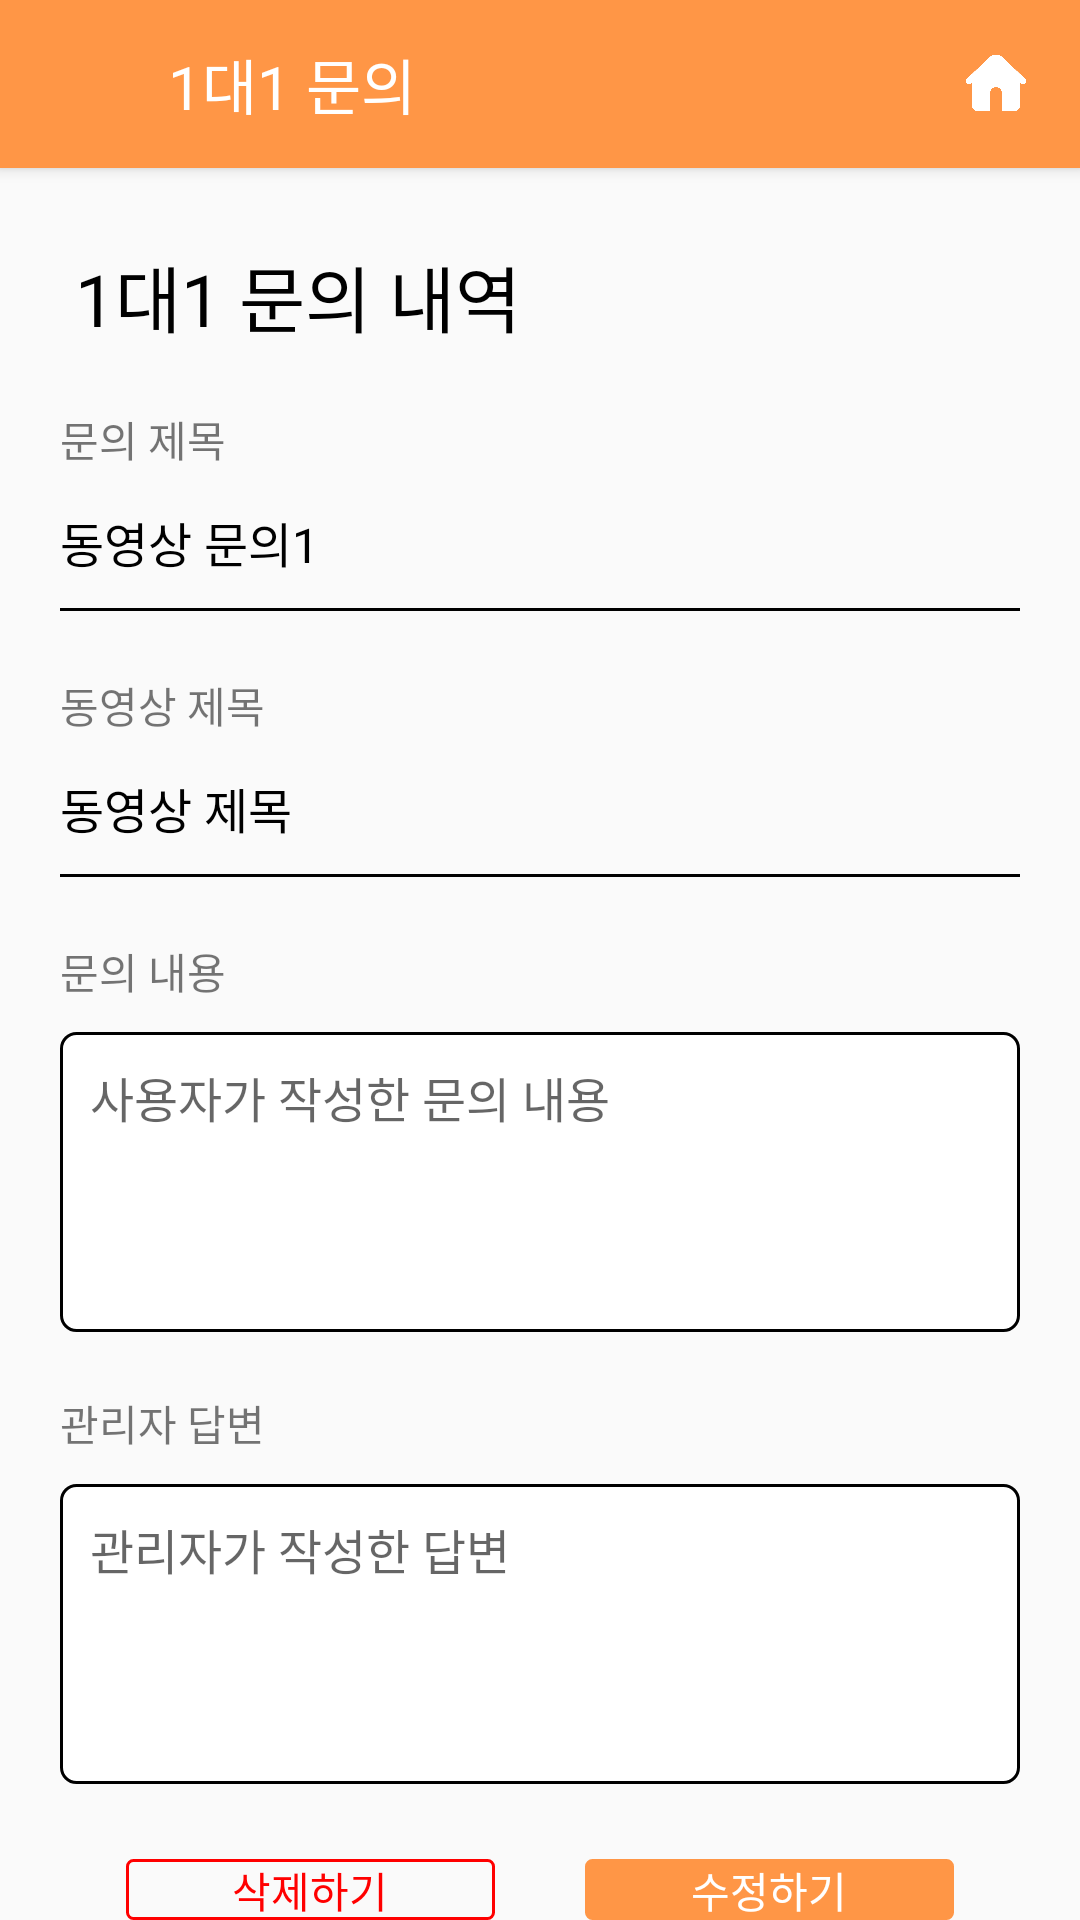

Named icons in this screenshot (1080px×1920px) and their bounding boxes, {"x1": x1, "y1": y1, "x2": x2, "y2": y2}:
home: {"x1": 966, "y1": 55, "x2": 1026, "y2": 111}
